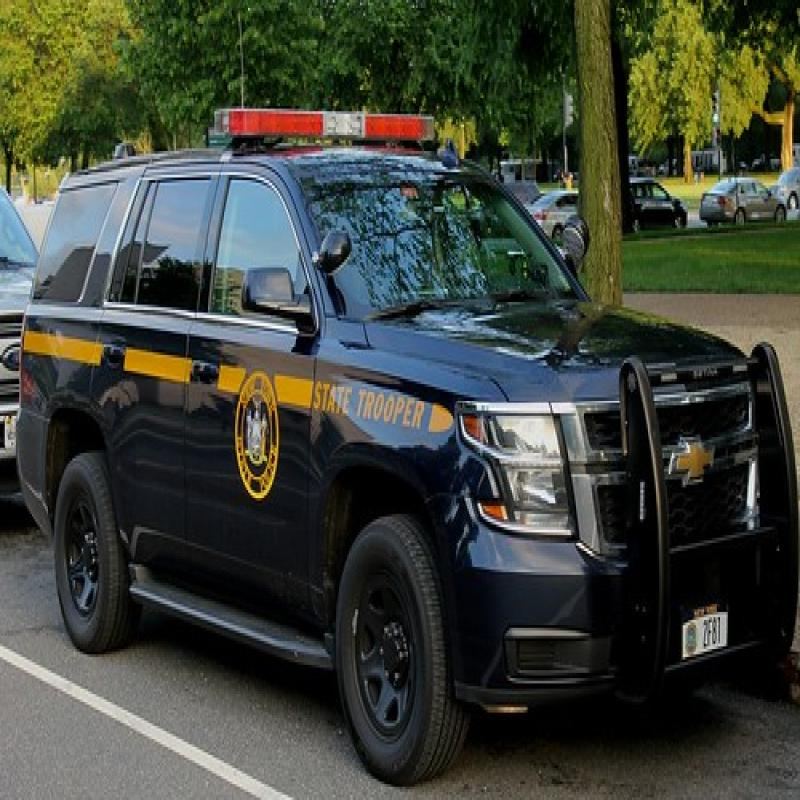AmbulanceSiren: (205, 71, 477, 176)
